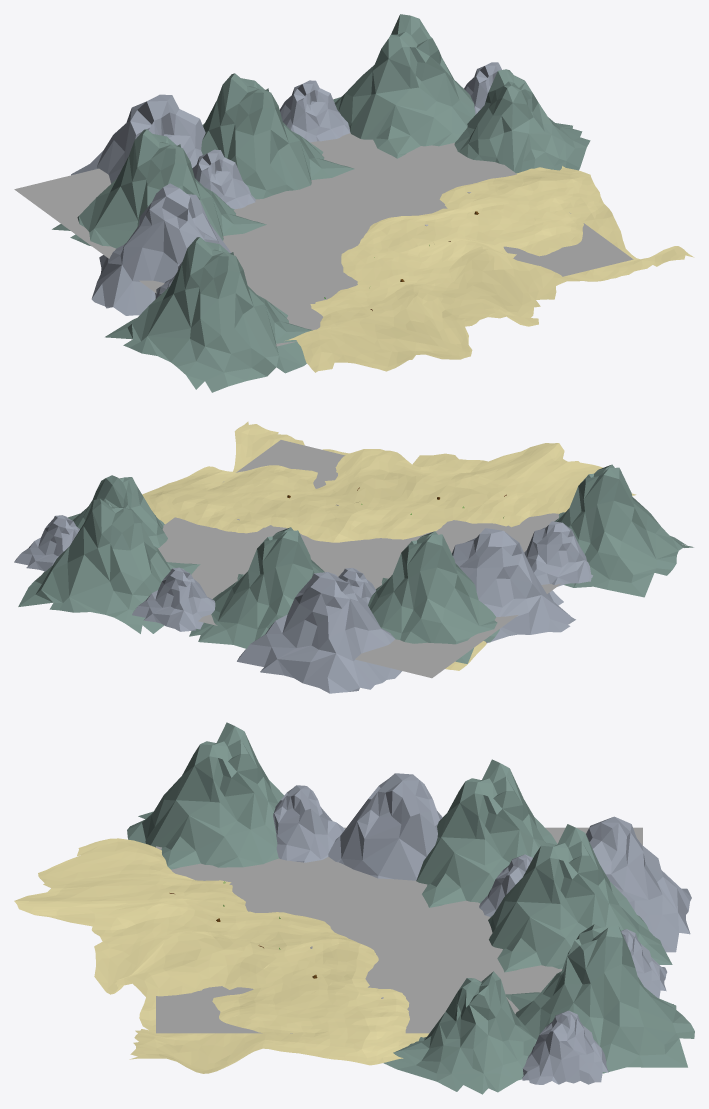
The model's file is umi.fbx.
The picture shows the model from 3 angles, top to bottom: view 1: azimuth 30°, elevation 25°; view 2: azimuth 150°, elevation 25°; view 3: azimuth 270°, elevation 25°; orthographic projection. The views are drawn at different scales.
Visible parts, largest first — view 1: Environment_2, pPlane1, polySurface200, polySurface192, polySurface194, polySurface196, polySurface198, polySurface190, polySurface195, polySurface191, polySurface197, polySurface193; view 2: Environment_2, pPlane1, polySurface195, polySurface192, polySurface200, polySurface196, polySurface194, polySurface198, polySurface191, polySurface199, polySurface190, polySurface193 (+1 smaller); view 3: Environment_2, pPlane1, polySurface200, polySurface192, polySurface194, polySurface196, polySurface190, polySurface198, polySurface195, polySurface193, polySurface199, polySurface191 (+1 smaller).
Part boxes in pixels (x1,y1,x2,y2): Environment_2: (285,166,694,372); pPlane1: (14,133,633,346); polySurface200: (105,237,312,392); polySurface192: (333,14,475,158); polySurface194: (201,73,354,199); polySurface196: (52,129,266,248); polySurface198: (91,183,231,315); polySurface190: (454,69,590,173); polySurface195: (71,94,205,183); polySurface191: (280,80,350,142); polySurface197: (192,149,255,209); polySurface193: (464,62,501,114); Environment_2: (142,421,636,670); pPlane1: (158,440,561,678); polySurface195: (237,572,401,693); polySurface192: (18,498,200,633); polySurface200: (554,464,693,597); polySurface196: (368,531,499,663); polySurface194: (189,527,324,648); polySurface198: (452,528,575,643); polySurface191: (132,567,215,631); polySurface199: (524,521,592,586); polySurface190: (67,475,167,547); polySurface193: (14,515,79,571); Environment_2: (14,838,429,1073); pPlane1: (156,827,642,1033); polySurface200: (127,722,283,869); polySurface192: (505,924,694,1073); polySurface194: (488,824,672,972); polySurface196: (416,759,557,907); polySurface190: (383,971,536,1094); polySurface198: (328,773,442,880); polySurface195: (586,816,691,952); polySurface193: (522,1010,608,1084); polySurface199: (273,785,344,862); polySurface191: (621,929,667,998).
Bounding box in the file's own units: 576 × 156 × 557.
